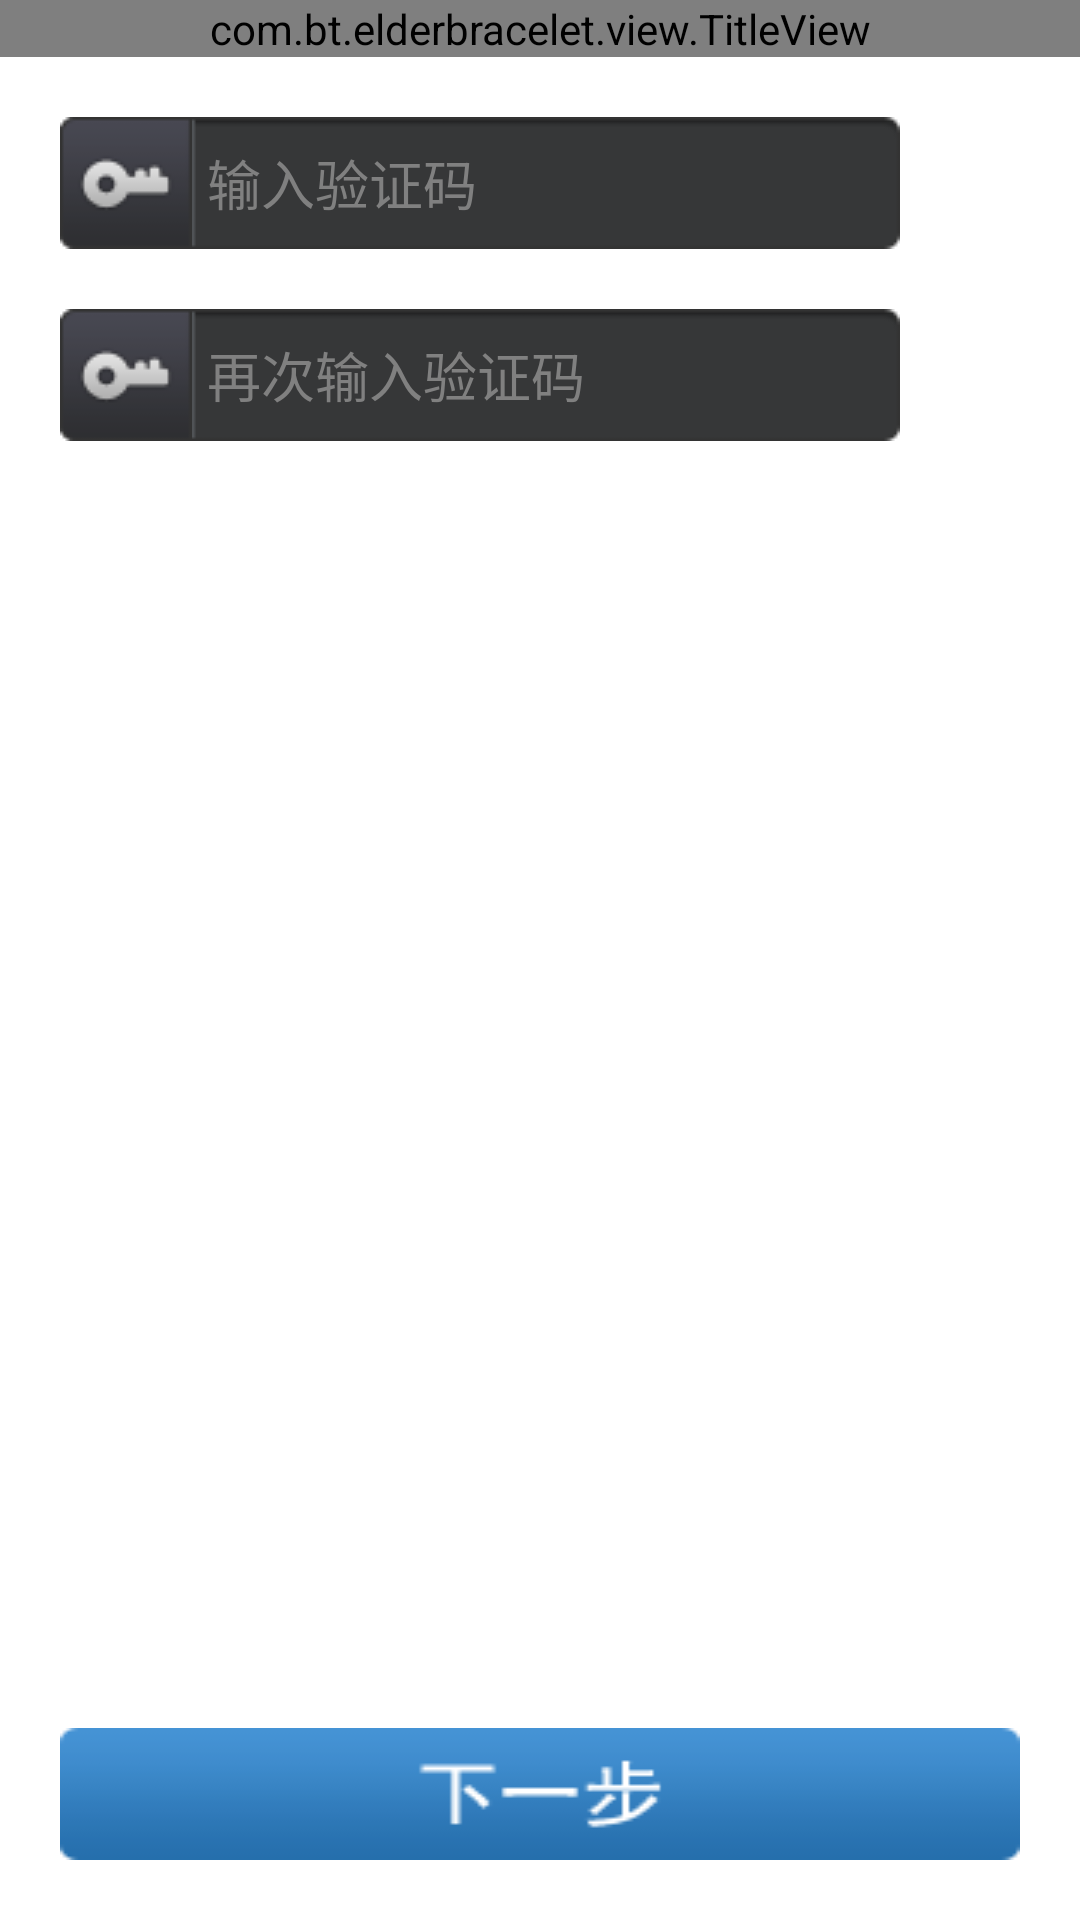

Screen size 1080x1920. Icon name, then its center in pixels as (x=x, y=y):
pswrod: (x=126, y=183), (x=126, y=375)
